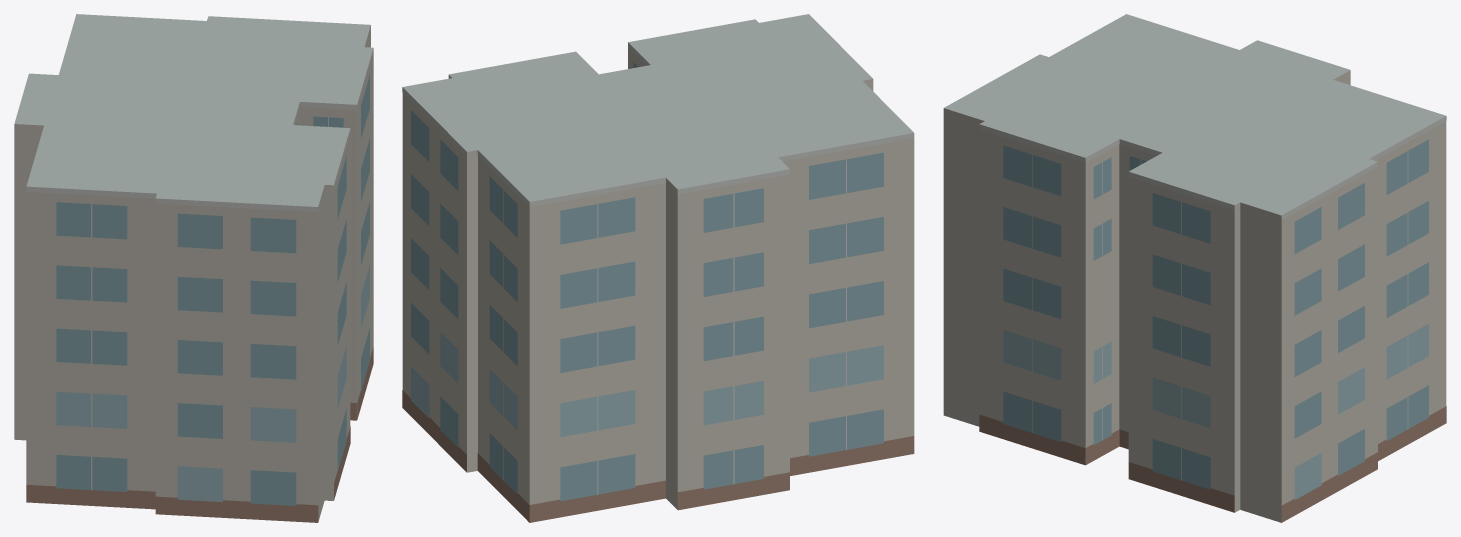
File: survey-upis-32986415.glb
3 views of the same model, side by side, from view 1: azimuth 30°, elevation 25°; view 2: azimuth 150°, elevation 25°; view 3: azimuth 270°, elevation 25° (orthographic). The views are drawn at different scales.
Visible parts, largest first — view 1: survey-upis-32986415.tmp; view 2: survey-upis-32986415.tmp; view 3: survey-upis-32986415.tmp.
Boxes of the visible parts, x1,y1,x2,y2 form: survey-upis-32986415.tmp: [14, 14, 373, 522]; survey-upis-32986415.tmp: [402, 14, 914, 522]; survey-upis-32986415.tmp: [943, 14, 1446, 522].
Bounding box in the file's own units: 21.23 × 15.1 × 22.39.
